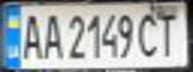1: (84, 10, 103, 60)
2: (63, 10, 87, 60)
4: (100, 9, 118, 58)
9: (115, 9, 139, 58)
A: (18, 9, 45, 61), (39, 9, 63, 61)
C: (136, 7, 163, 57)
T: (154, 2, 184, 57)
